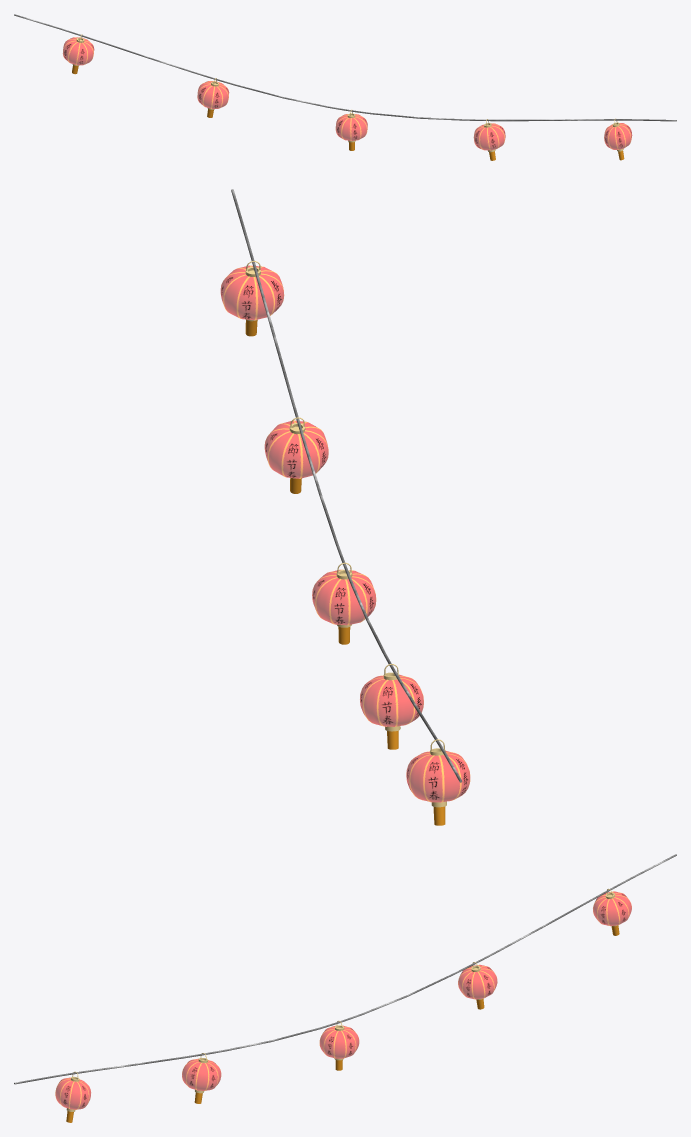
The model's file is SM_lamp_spline_Splines_27.fbx.
3 renders of one model, top to bottom at view 1: azimuth 30°, elevation 25°; view 2: azimuth 150°, elevation 25°; view 3: azimuth 270°, elevation 25°, orthographic. The views are drawn at different scales.
Visible parts, largest first — view 1: SM_lamp_spline_Splines_27; view 2: SM_lamp_spline_Splines_27; view 3: SM_lamp_spline_Splines_27.
Part boxes in pixels (bbox=[...]): SM_lamp_spline_Splines_27: bbox=[14, 14, 676, 160]; SM_lamp_spline_Splines_27: bbox=[220, 189, 470, 825]; SM_lamp_spline_Splines_27: bbox=[14, 854, 676, 1122].
Size of the model in its own units: 771 by 942 by 155.
